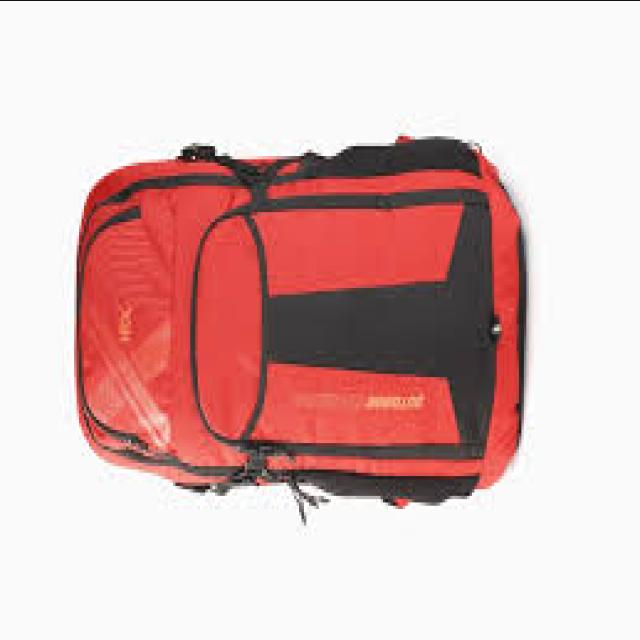backpack: (73, 136, 525, 516)
